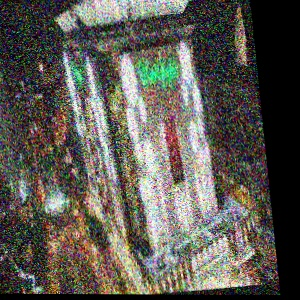corte_ingles: (50, 55, 262, 111), (28, 63, 145, 116)
